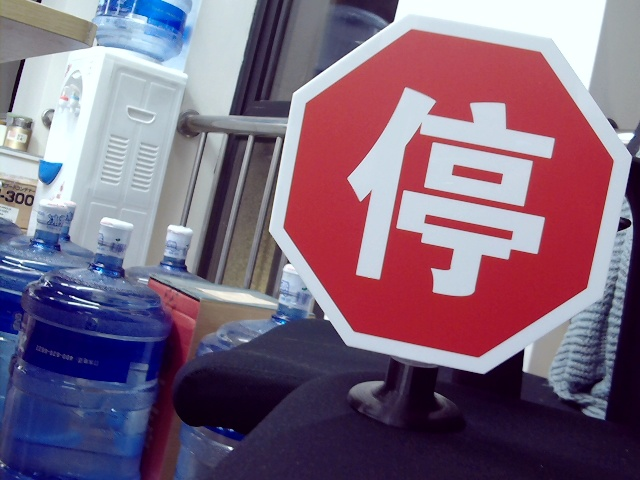stop: (348, 81, 555, 300)
